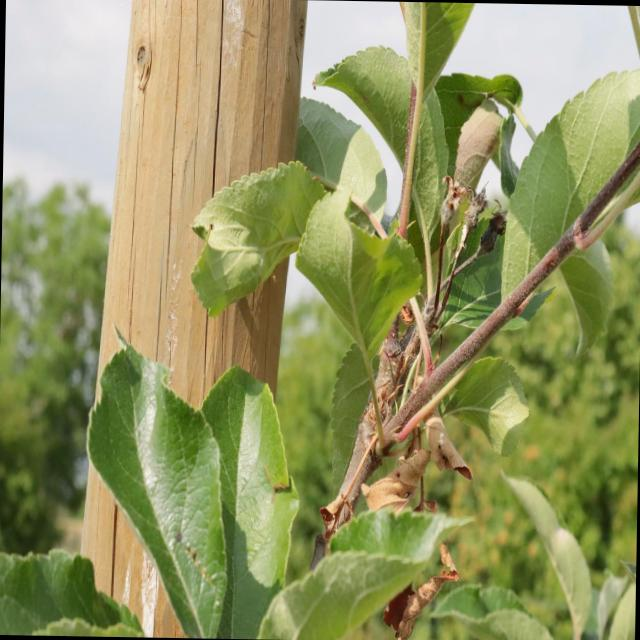-FireBlight-: (360, 410, 476, 510), (391, 528, 468, 640)
